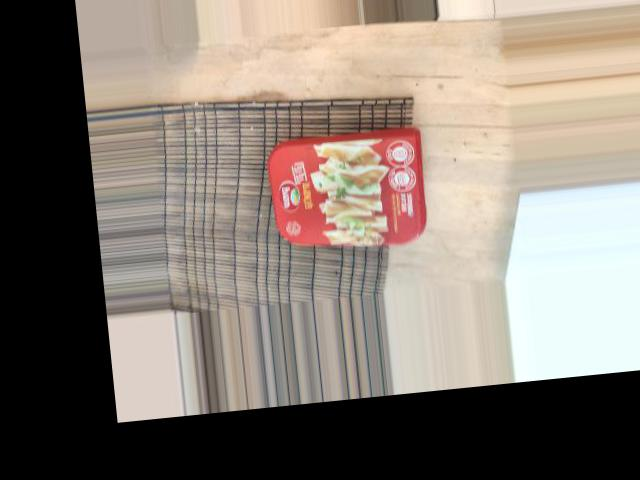cheese: (256, 144, 434, 265)
